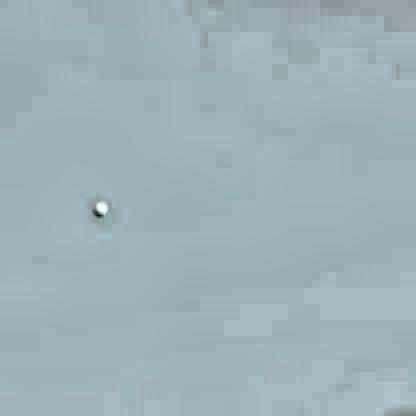golfball: (91, 196, 107, 214)
